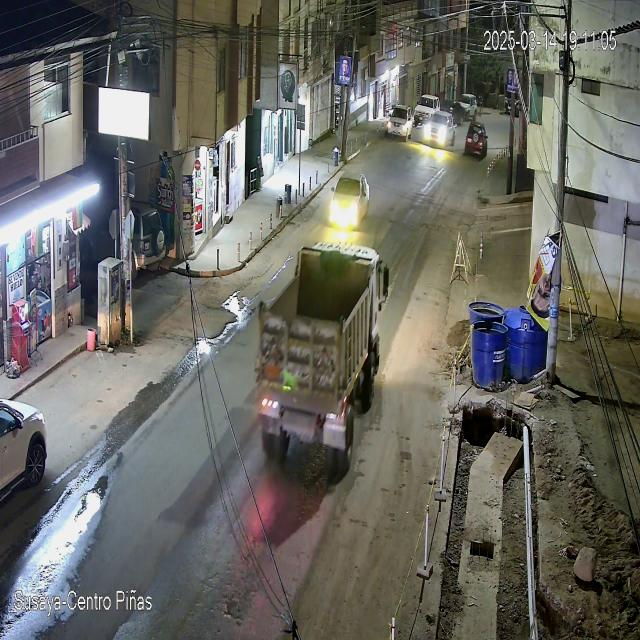TRUCK: (255, 242, 380, 488)
